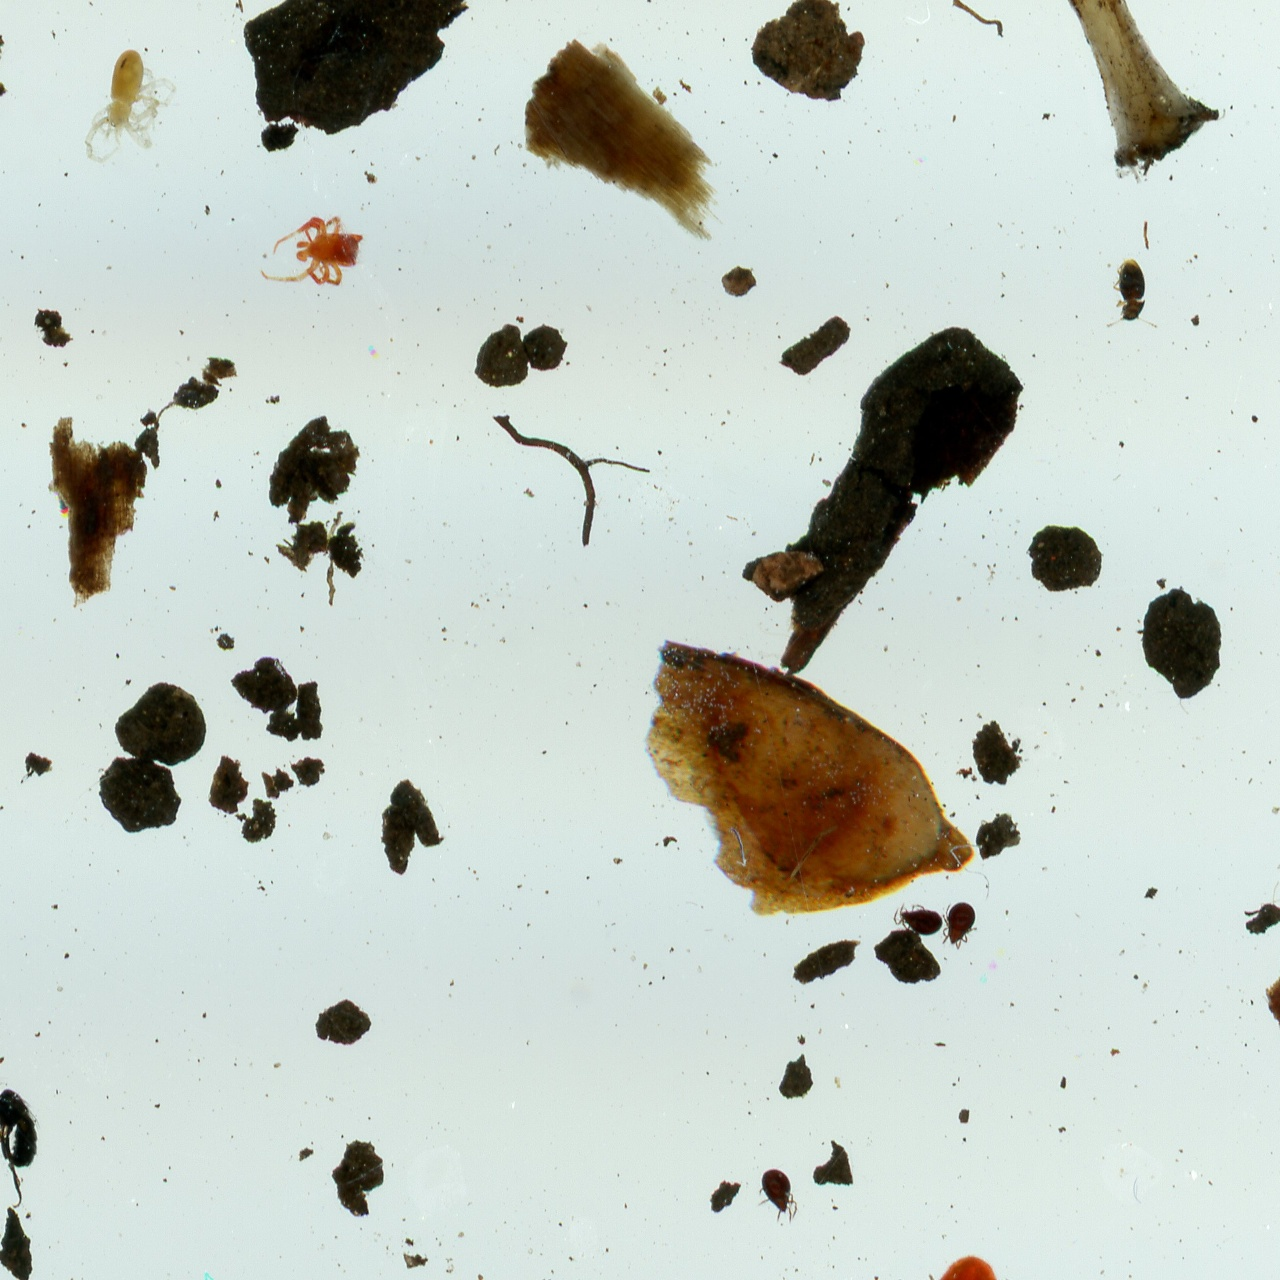arthropod: (79, 46, 183, 170), (257, 211, 370, 290), (0, 1077, 43, 1212), (927, 886, 993, 962), (1104, 256, 1164, 335), (892, 1252, 1010, 1280), (753, 1162, 803, 1227), (888, 900, 946, 945)
